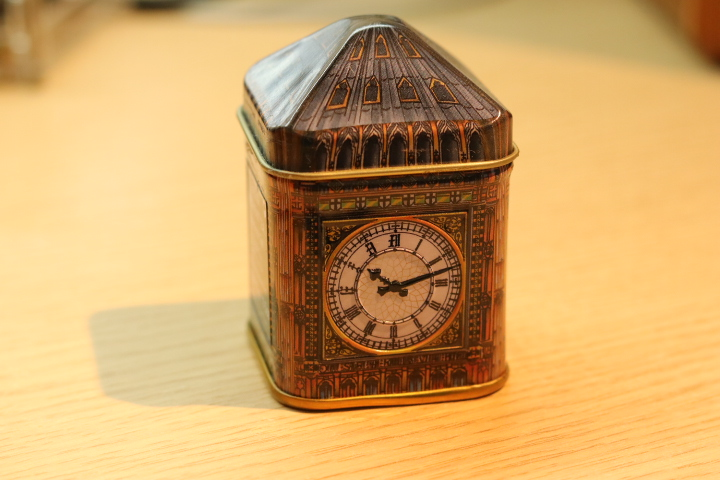Big Ben: (224, 7, 535, 426)
